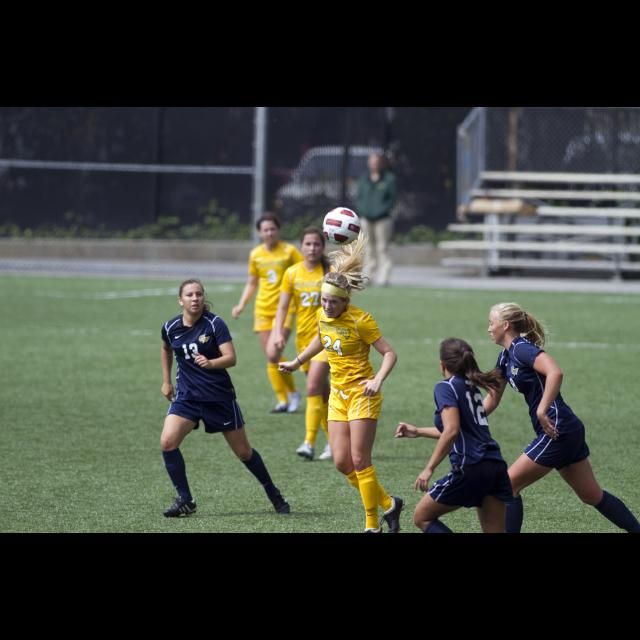Football: (317, 204, 363, 246)
